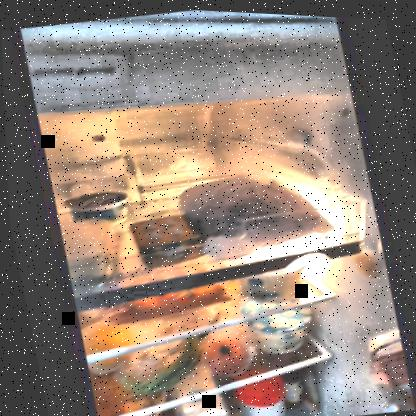butter: (125, 209, 206, 270)
carrot: (114, 278, 227, 321)
green_chillies: (120, 343, 202, 392)
lemon: (79, 320, 137, 370)
milk: (169, 374, 232, 415)
tomato: (198, 331, 249, 377)
yoghurt: (240, 296, 318, 355), (234, 264, 308, 307), (61, 185, 129, 229)
